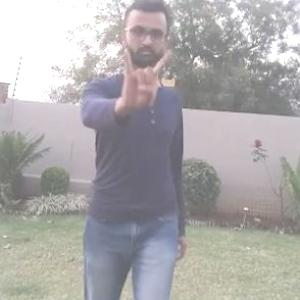takeoff-hand: (112, 42, 177, 114)
